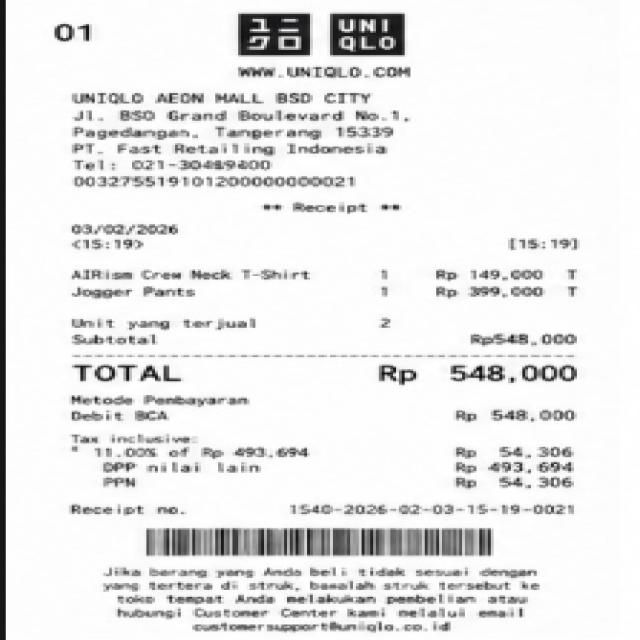date: (68, 220, 208, 256)
store: (230, 8, 410, 58), (68, 88, 385, 106)
total: (68, 359, 592, 389)
